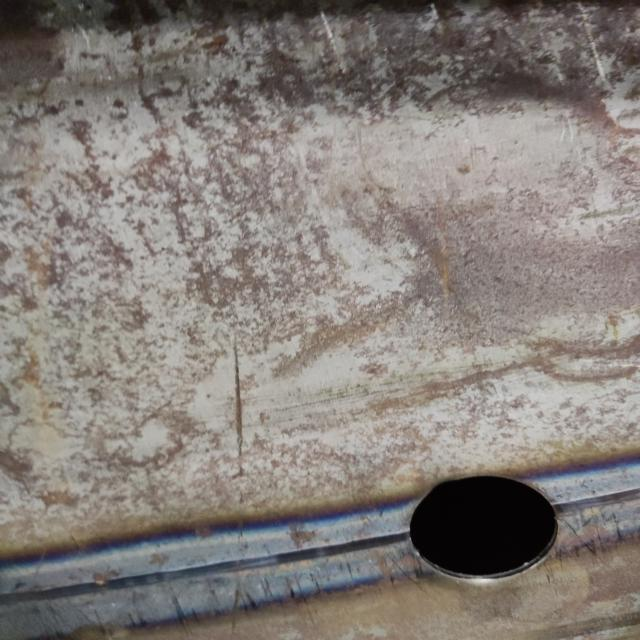seam: (0, 438, 640, 640)
